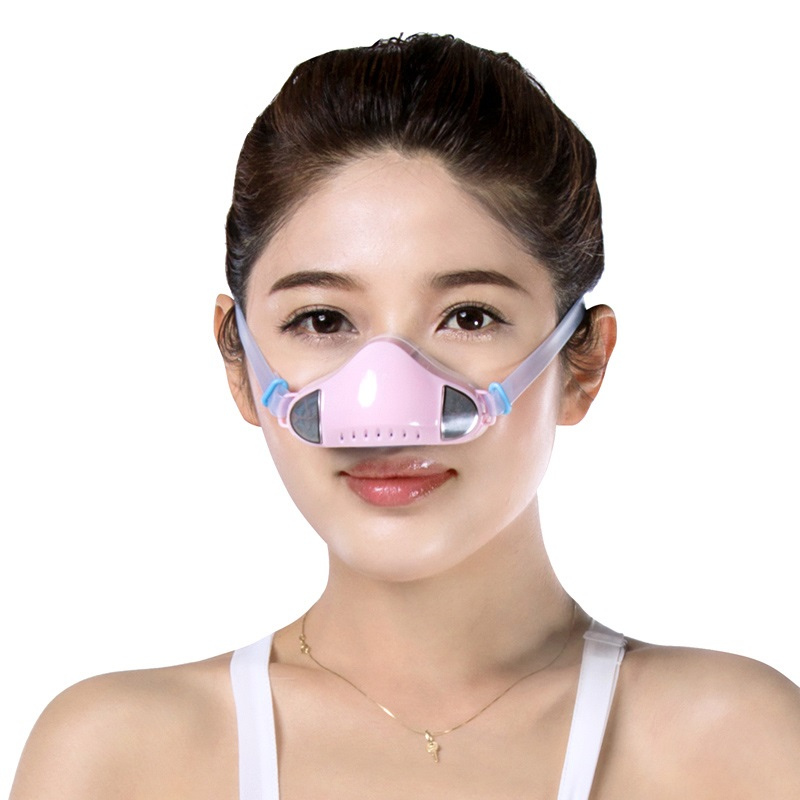face_mask: (243, 147, 558, 573)
